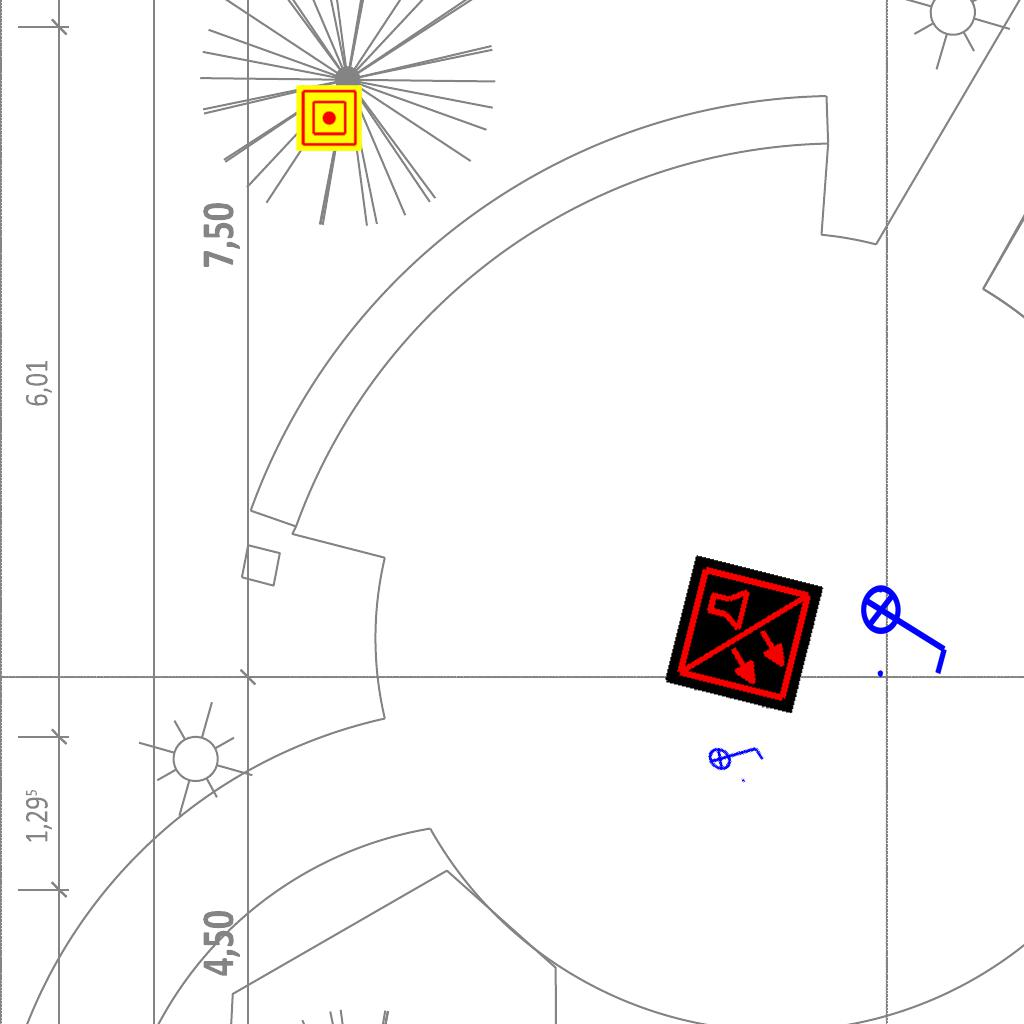Ausschalter_beleuchtet: (859, 571, 955, 683), (698, 718, 772, 792)
NAM-Nichtautomatischer_Melder: (296, 85, 362, 151)
OKW_Multisensormelder_(Kombination_optischer_Rauch-Kahlenmonoxid_Waerme-Melder): (663, 554, 825, 716)
